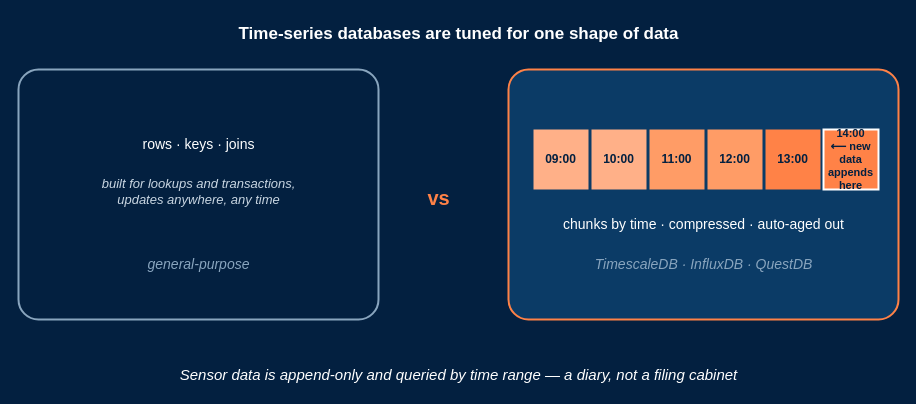
Image size: 916x404. Some labels were removed from this diagram. Each missing label, with the box of its shape:
RELATIONAL DB: (17, 68, 379, 320)
TIME-SERIES DB: (507, 68, 899, 320)
